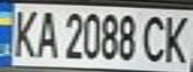0: (81, 9, 103, 61)
2: (60, 8, 84, 61)
8: (115, 10, 142, 62), (100, 10, 121, 61)
A: (33, 7, 60, 60)
C: (139, 11, 172, 63)
K: (6, 4, 42, 60), (157, 11, 193, 64)
